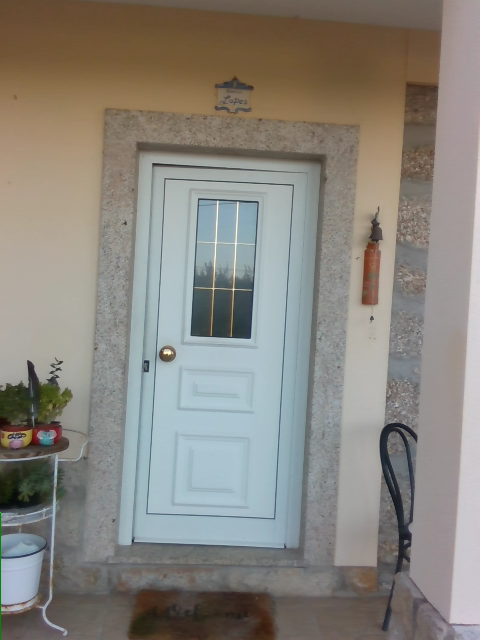closed: (122, 148, 326, 553)
